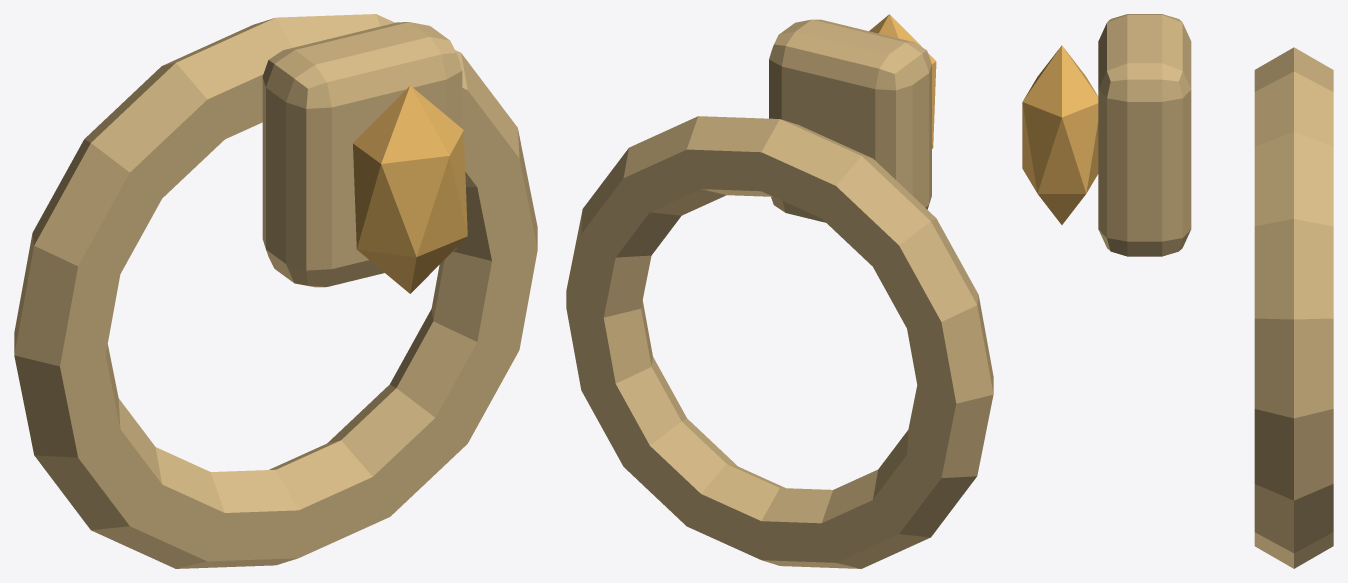
Rendered from arm_mercy_ring.glb.
3 renders of one model, left to right at view 1: azimuth 30°, elevation 25°; view 2: azimuth 150°, elevation 25°; view 3: azimuth 270°, elevation 25°, orthographic. The views are drawn at different scales.
Parts seen in each view (by area): view 1: arm_mercy_ring; view 2: arm_mercy_ring; view 3: arm_mercy_ring.
Part boxes in pixels (x1,y1,x2,y2): arm_mercy_ring: (14, 14, 537, 568); arm_mercy_ring: (566, 14, 993, 568); arm_mercy_ring: (1022, 14, 1333, 568).
Size of the model in its own units: 0.63 by 0.673 by 0.3753.
